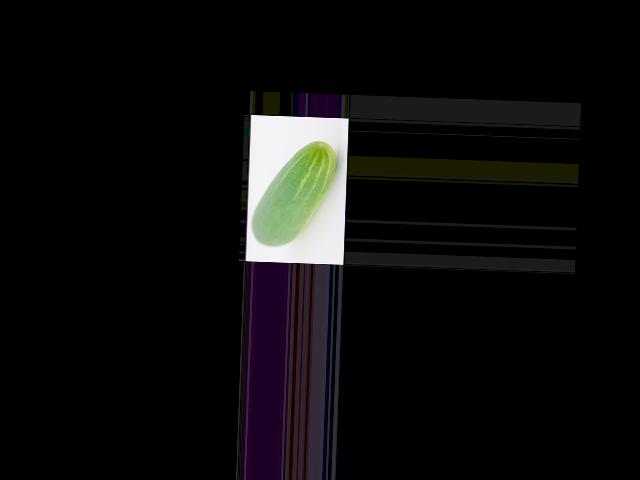cucumber: (251, 139, 337, 248)
